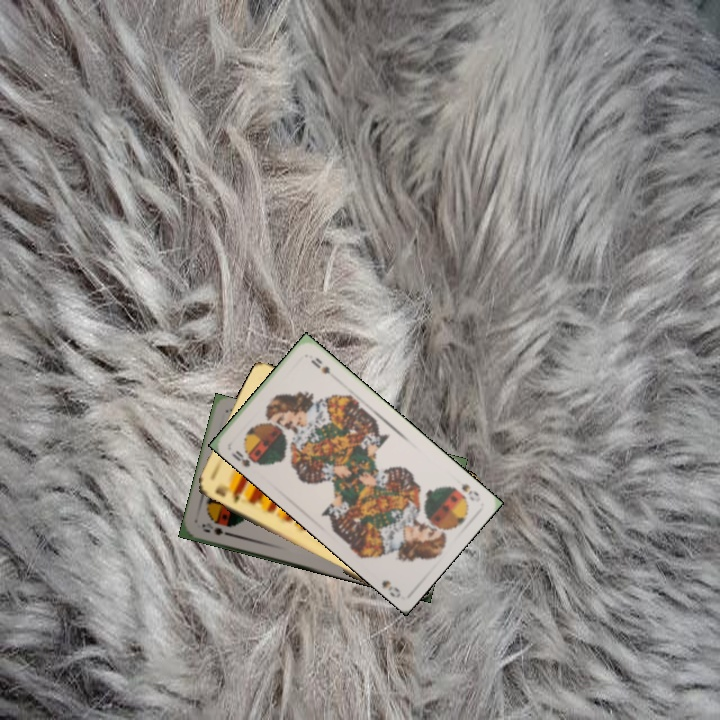E10: (211, 481, 244, 506)
SO: (227, 446, 265, 470), (198, 519, 236, 539), (457, 479, 481, 504)
